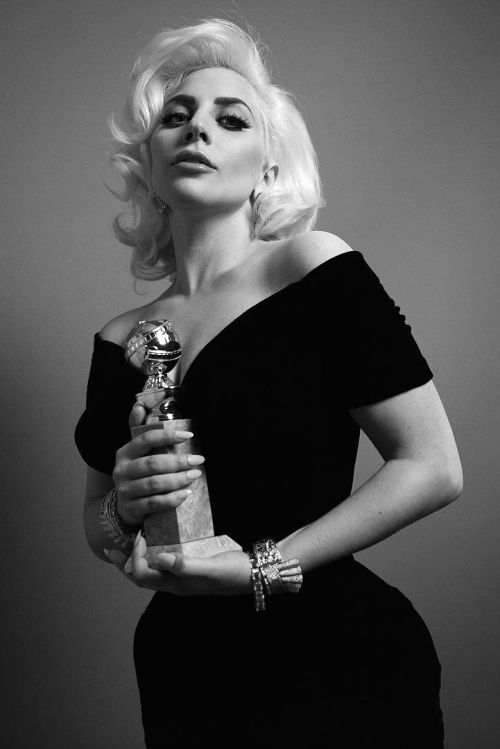hand: (112, 532, 263, 593)
